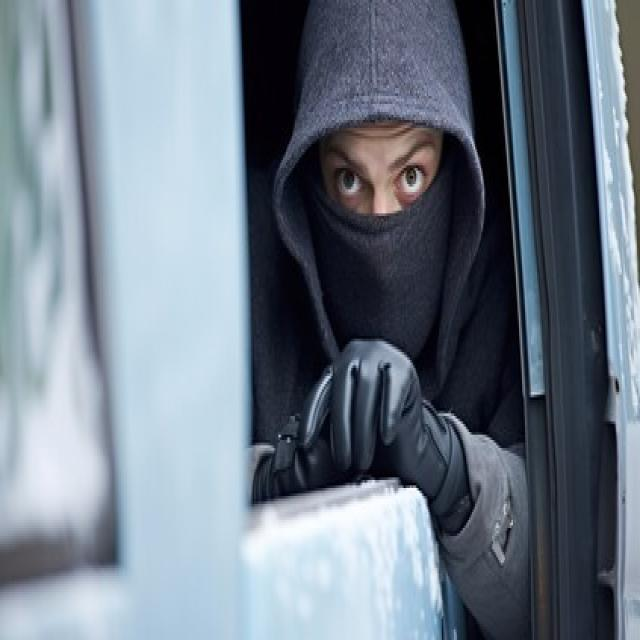person-with-mask: (184, 1, 587, 639)
